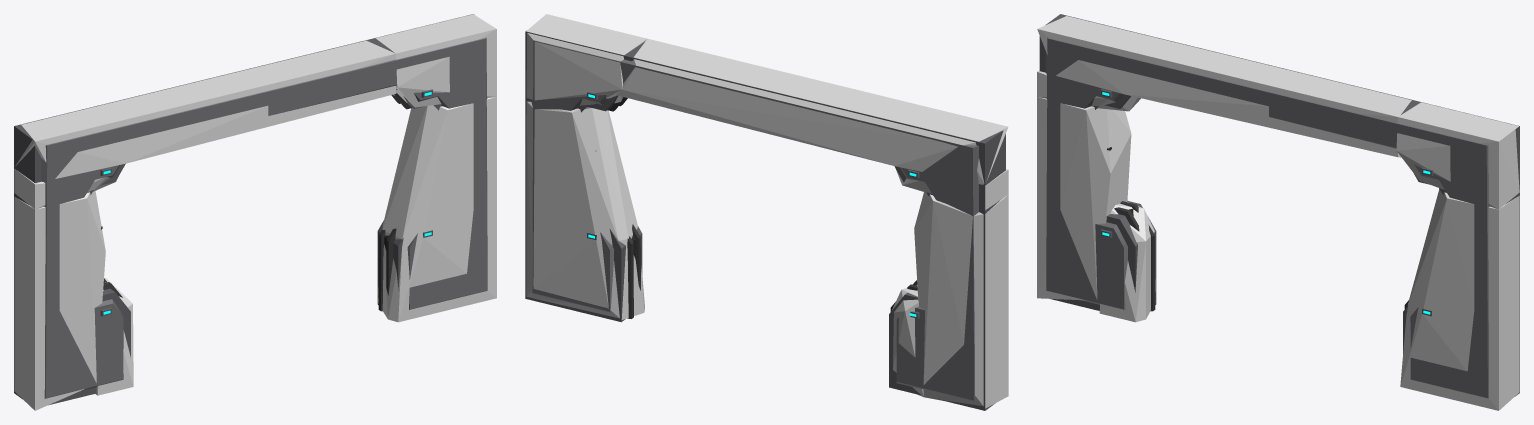
Rendered from SM_Bld_Wall_Doorframe_03.fbx.
The picture shows the model from 3 angles, left to right: view 1: azimuth 30°, elevation 25°; view 2: azimuth 150°, elevation 25°; view 3: azimuth 330°, elevation 25°; orthographic projection.
Parts seen in each view (by area): view 1: SM_Bld_Wall_Doorframe_03_ConvexHulls, SM_Bld_Wall_Doorframe_03_LOD0; view 2: SM_Bld_Wall_Doorframe_03_ConvexHulls, SM_Bld_Wall_Doorframe_03_LOD0; view 3: SM_Bld_Wall_Doorframe_03_ConvexHulls, SM_Bld_Wall_Doorframe_03_LOD0.
Part boxes in pixels (x1,y1,x2,y2): SM_Bld_Wall_Doorframe_03_ConvexHulls: (14,14,496,410); SM_Bld_Wall_Doorframe_03_LOD0: (14,14,487,405); SM_Bld_Wall_Doorframe_03_ConvexHulls: (526,14,1008,408); SM_Bld_Wall_Doorframe_03_LOD0: (525,30,1005,410); SM_Bld_Wall_Doorframe_03_ConvexHulls: (1037,16,1519,410); SM_Bld_Wall_Doorframe_03_LOD0: (1039,14,1519,398).
Size of the model in its own units: 96.6 by 905 by 504.
1 material, 1 textured.
